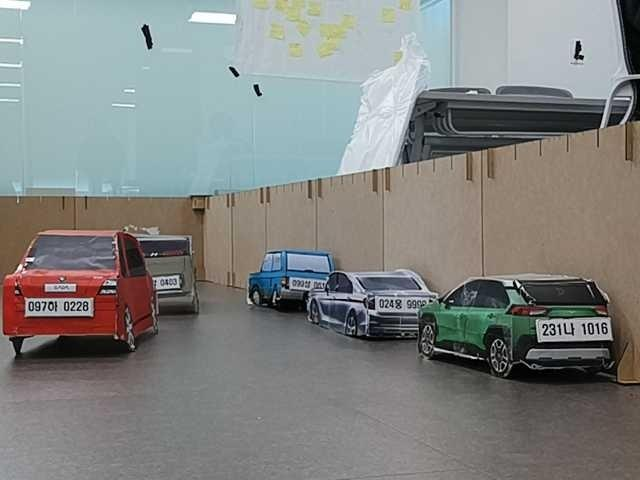car: (417, 277, 613, 379), (2, 231, 157, 353), (300, 268, 439, 341), (121, 230, 199, 315), (250, 248, 331, 317)
id: (535, 319, 613, 342), (25, 297, 95, 317), (375, 296, 436, 314), (293, 278, 326, 294), (150, 276, 181, 290)
